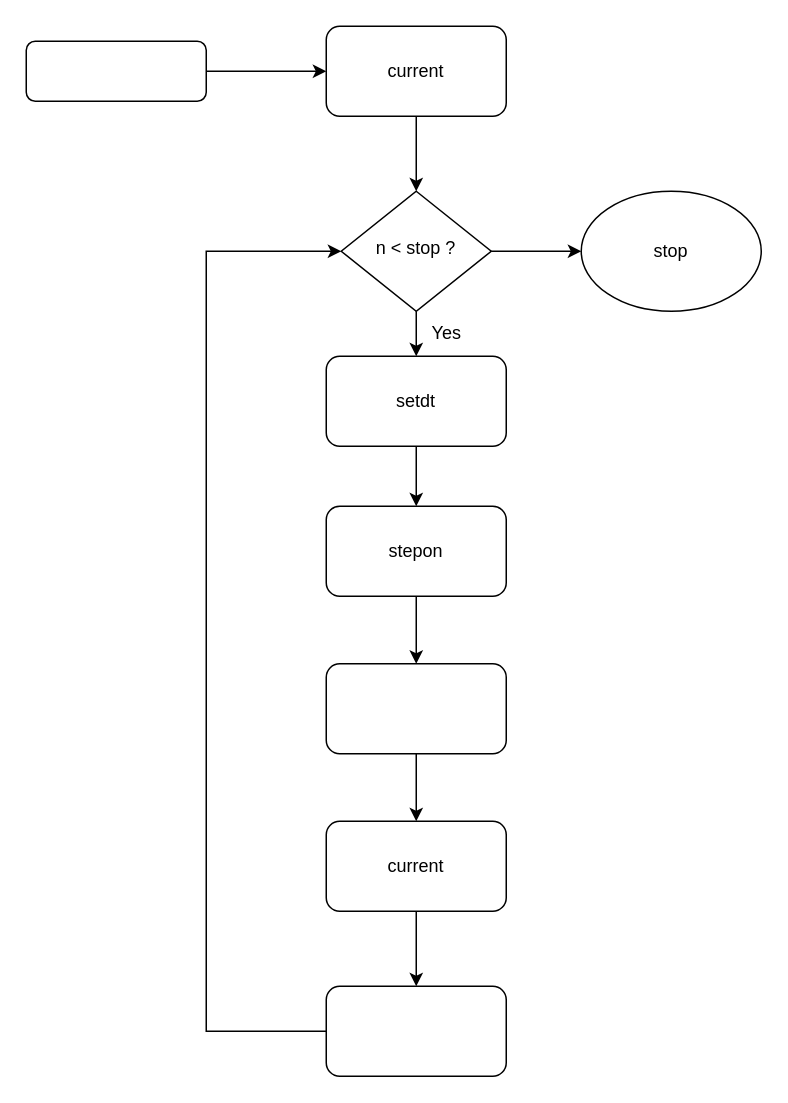
The diagram is 788 pixels wide and 1103 high, and some of its shapes have lost their labels. The shapes that lost their labels are listed below. From the top down, each one's box as (x1, y1, x2, y2) in pixels, then its label:
(25, 40, 206, 101): initialize
(325, 662, 506, 754): eta
(325, 985, 506, 1076): check
